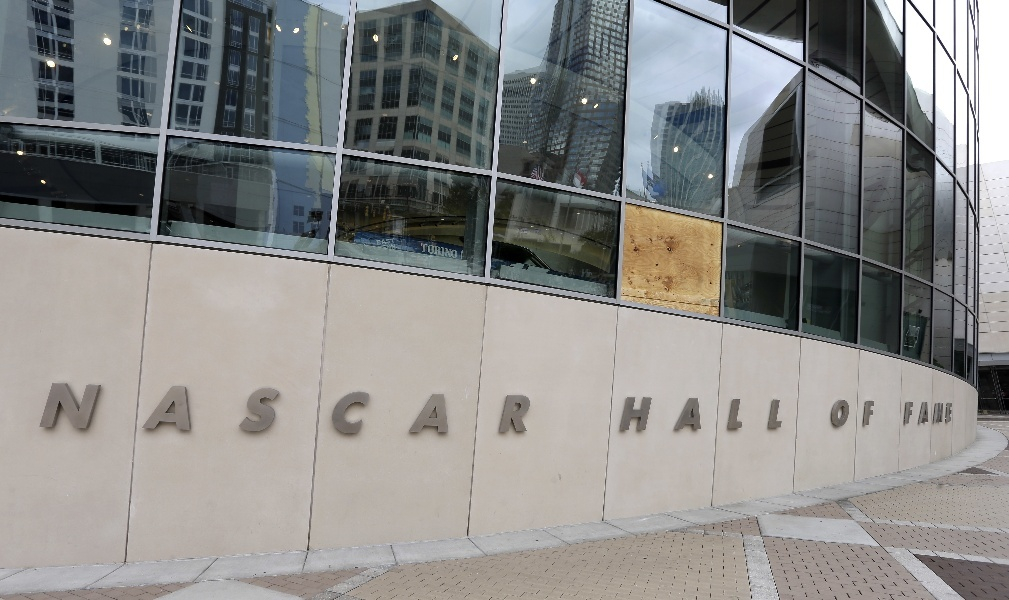text: (65, 382, 80, 436), (81, 382, 96, 436), (97, 382, 112, 436), (113, 382, 128, 436), (129, 382, 144, 436), (145, 382, 160, 436), (161, 382, 176, 436), (177, 382, 192, 436), (193, 382, 208, 436), (209, 382, 224, 436), (225, 382, 240, 436), (241, 382, 256, 436), (257, 382, 272, 436), (273, 382, 288, 436), (289, 382, 304, 436), (305, 382, 320, 436), (321, 382, 336, 436), (337, 382, 352, 436), (353, 382, 368, 436), (369, 382, 384, 436), (385, 382, 400, 436), (401, 382, 416, 436), (417, 382, 432, 436), (433, 382, 448, 436), (449, 382, 464, 436), (465, 382, 480, 436), (481, 382, 496, 436), (497, 382, 512, 436), (513, 382, 528, 436), (54, 382, 64, 436), (641, 397, 656, 431), (657, 397, 672, 431), (673, 397, 688, 431), (689, 397, 704, 431), (705, 397, 720, 431), (721, 397, 736, 431), (737, 397, 752, 431), (753, 397, 768, 431), (769, 397, 784, 431), (627, 397, 640, 431), (849, 400, 864, 427), (834, 400, 848, 427), (913, 402, 928, 425), (929, 402, 944, 425), (865, 400, 876, 427), (433, 243, 448, 259), (945, 402, 953, 425), (529, 382, 532, 436), (422, 243, 432, 259), (449, 243, 459, 259), (906, 402, 912, 425), (385, 243, 398, 252), (385, 239, 395, 246), (376, 239, 384, 246), (648, 180, 656, 187), (378, 243, 384, 252), (650, 179, 656, 186), (785, 397, 786, 431), (535, 231, 544, 234), (522, 228, 528, 232)
